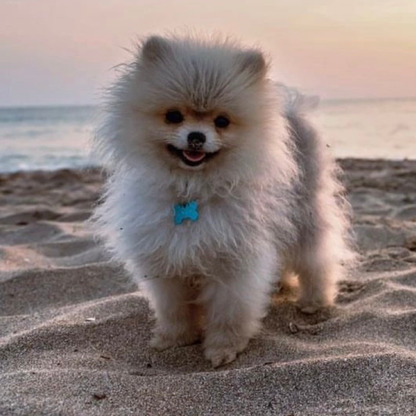Pomeranian: (95, 26, 370, 371)
